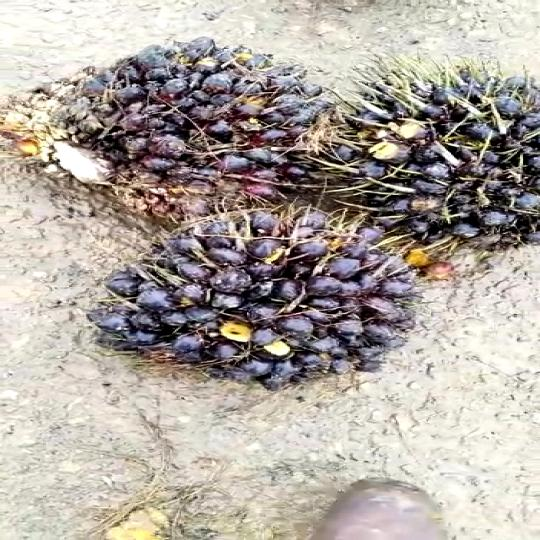mentah: (107, 216, 437, 390), (305, 60, 540, 274), (26, 36, 305, 213)
